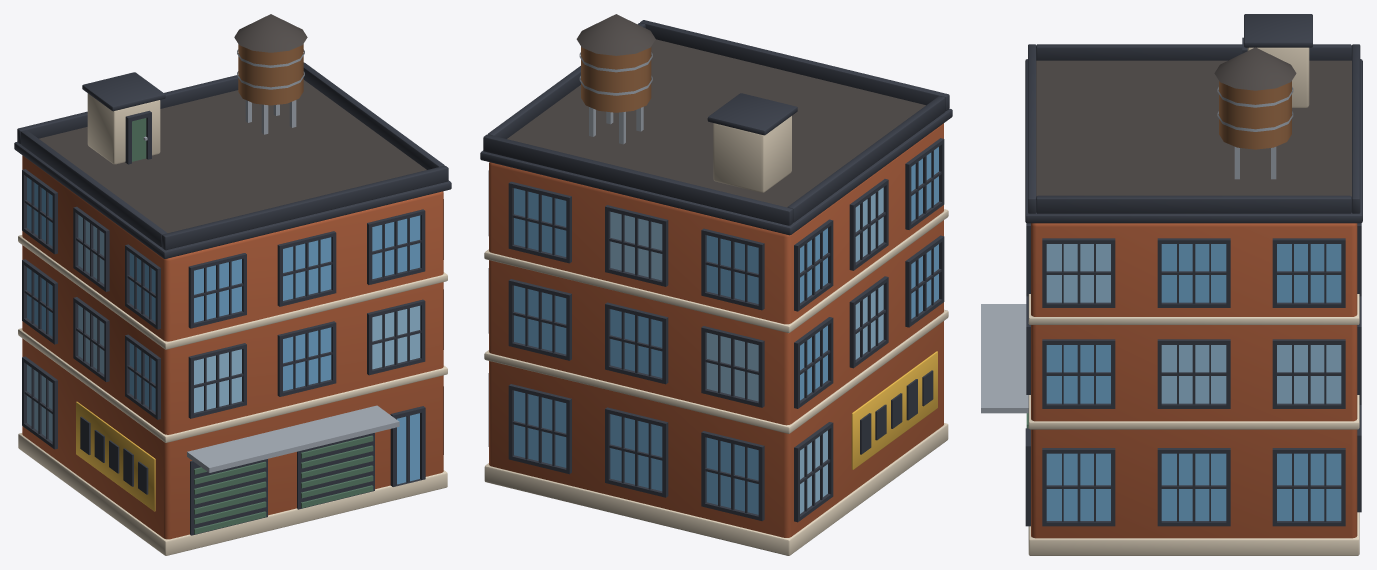
File: building_lofts.glb
The picture shows the model from 3 angles, left to right: view 1: azimuth 30°, elevation 25°; view 2: azimuth 150°, elevation 25°; view 3: azimuth 270°, elevation 25°; orthographic projection. The views are drawn at different scales.
Visible parts, largest first — view 1: building; view 2: building; view 3: building.
Part boxes in pixels (<box>): building: <box>14,14,451,555</box>; building: <box>480,14,952,555</box>; building: <box>981,14,1362,555</box>.
Size of the model in its own units: 9.7 by 13.45 by 9.95.
